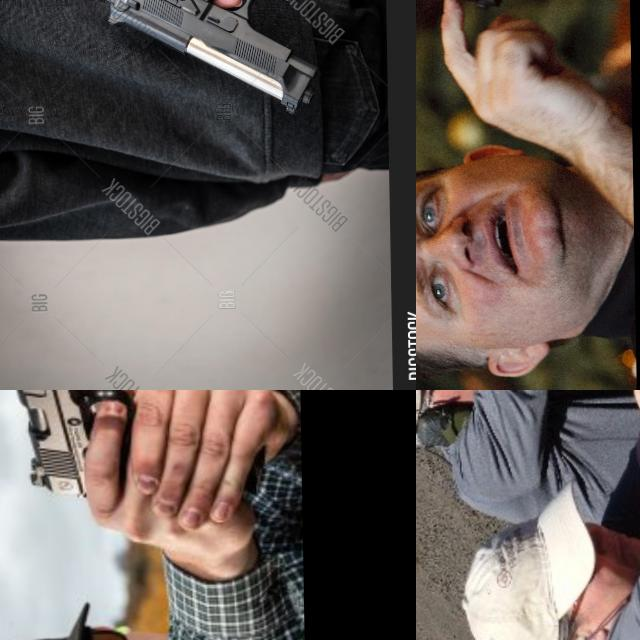handgun: (86, 0, 324, 132), (0, 390, 141, 503), (416, 0, 552, 72), (566, 390, 640, 474), (440, 390, 489, 441)
